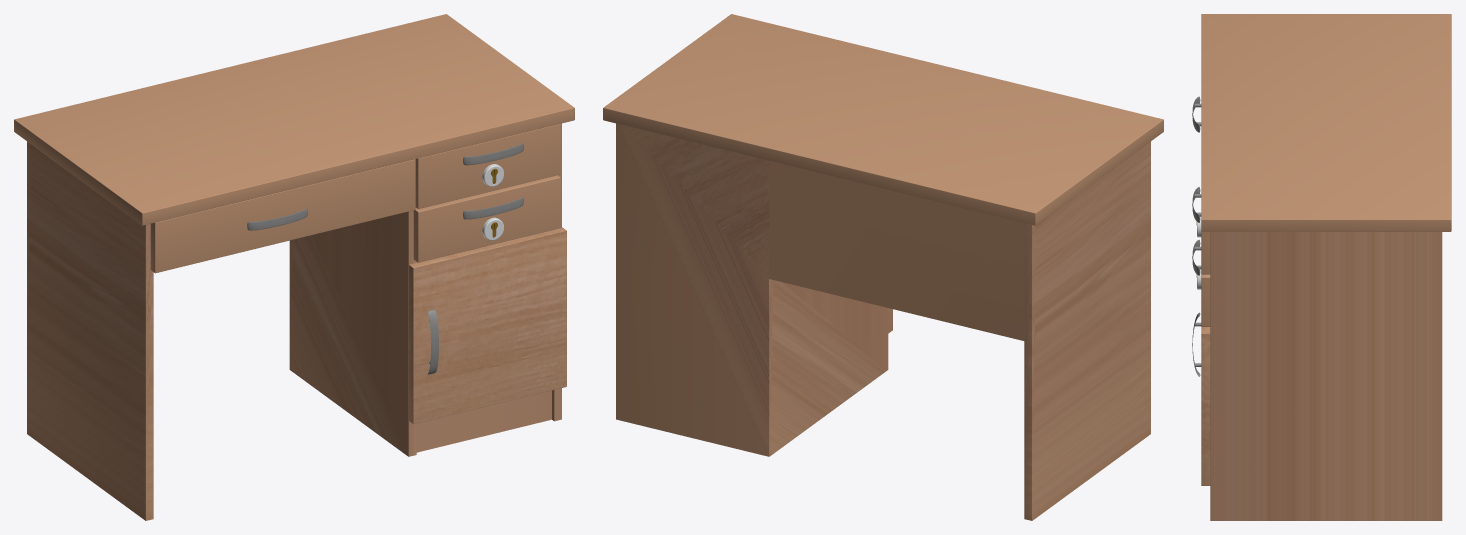
The model's file is Biurko_Prowadzącego.fbx.
3 renders of one model, left to right at view 1: azimuth 30°, elevation 25°; view 2: azimuth 150°, elevation 25°; view 3: azimuth 270°, elevation 25°, orthographic. The views are drawn at different scales.
Parts seen in each view (by area): view 1: Biurko Prowadzącego, Otwierana Szafka, Szuflada 1, Szuflada zamykana 2, Szuflada zamykana 1; view 2: Biurko Prowadzącego; view 3: Biurko Prowadzącego, Otwierana Szafka, Szuflada zamykana 2, Szuflada zamykana 1.
Boxes of the visible parts, x1,y1,x2,y2 form: Biurko Prowadzącego: (14,14,574,520); Otwierana Szafka: (409,227,566,424); Szuflada 1: (150,159,415,273); Szuflada zamykana 2: (413,175,560,262); Szuflada zamykana 1: (415,124,560,208); Biurko Prowadzącego: (603,14,1163,520); Biurko Prowadzącego: (1201,14,1451,520); Otwierana Szafka: (1192,312,1210,485); Szuflada zamykana 2: (1192,239,1210,326); Szuflada zamykana 1: (1192,187,1210,274).
Bounding box in the file's own units: 169 × 117 × 89.88.
